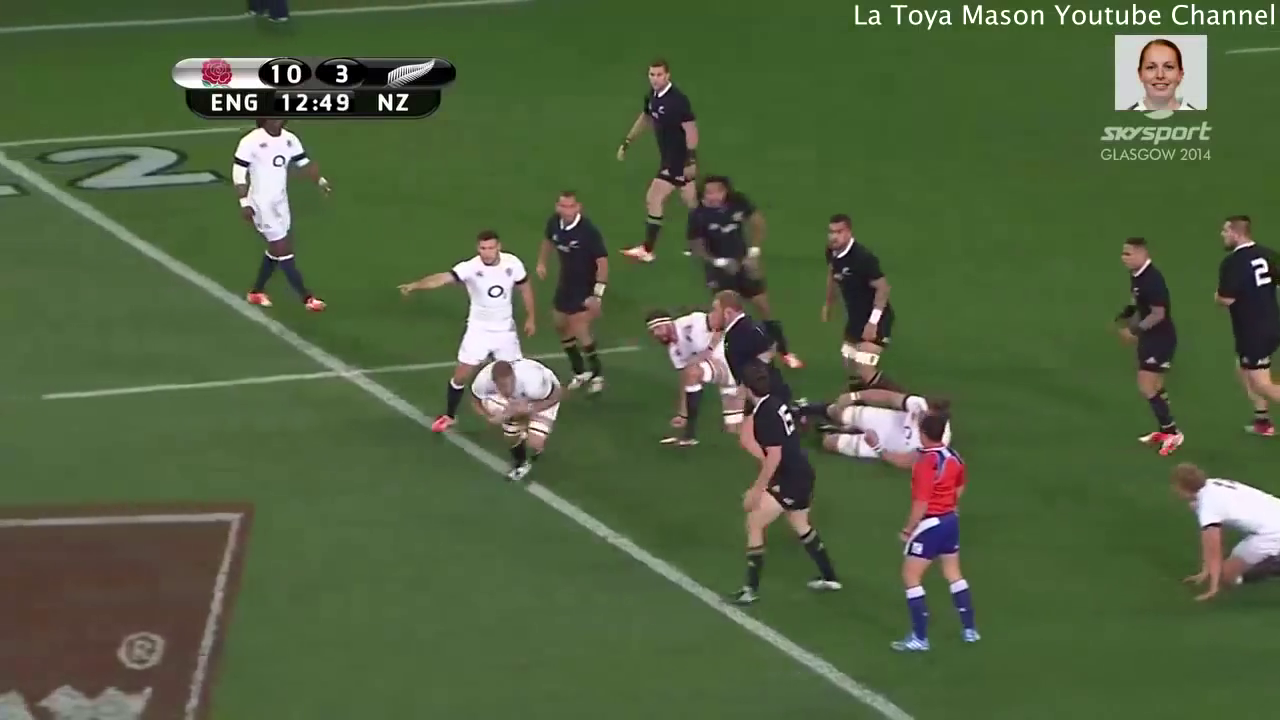ball: (473, 380, 520, 431)
player: (384, 228, 545, 476), (710, 359, 848, 613), (863, 404, 990, 661), (673, 165, 809, 377), (207, 119, 345, 322), (609, 51, 711, 275), (1199, 197, 1280, 450), (532, 177, 619, 406), (1156, 448, 1280, 606), (1105, 229, 1189, 461), (808, 209, 905, 403), (458, 347, 578, 495), (634, 294, 752, 440), (805, 380, 981, 470), (689, 275, 794, 413)
